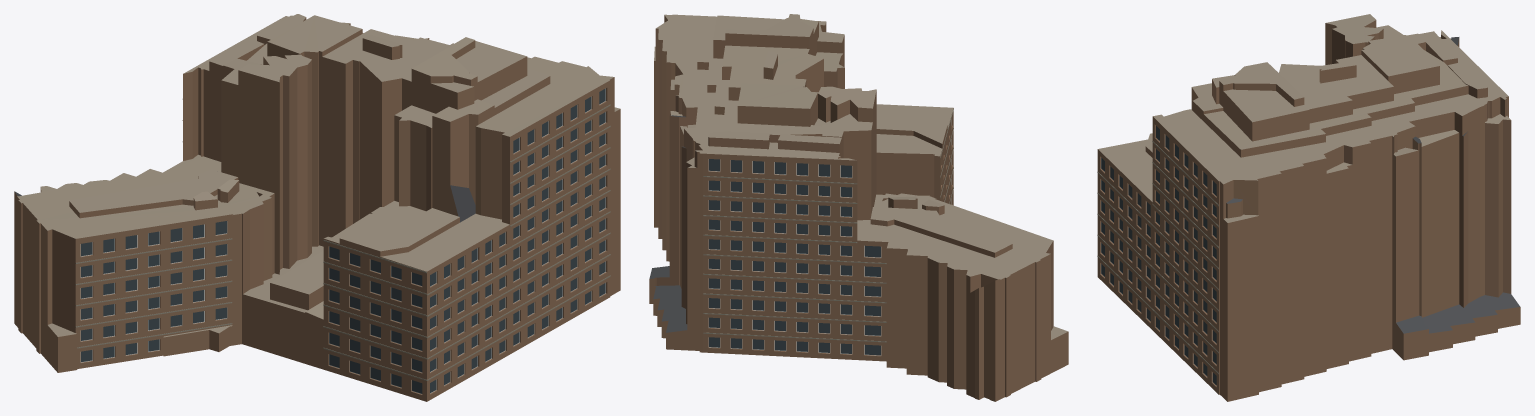
Rendered from recipe-large-stadhouderskade-12-090765.glb.
3 renders of one model, left to right at view 1: azimuth 30°, elevation 25°; view 2: azimuth 150°, elevation 25°; view 3: azimuth 270°, elevation 25°, orthographic. The views are drawn at different scales.
Parts seen in each view (by area): view 1: stadhouderskade-12-090765; view 2: stadhouderskade-12-090765; view 3: stadhouderskade-12-090765.
Part boxes in pixels (left/top/right/bottom): stadhouderskade-12-090765: left=14, top=14, right=620, bottom=401; stadhouderskade-12-090765: left=649, top=14, right=1068, bottom=401; stadhouderskade-12-090765: left=1097, top=14, right=1520, bottom=401.
Bounding box in the file's own units: 79.32 × 37.84 × 58.24.
